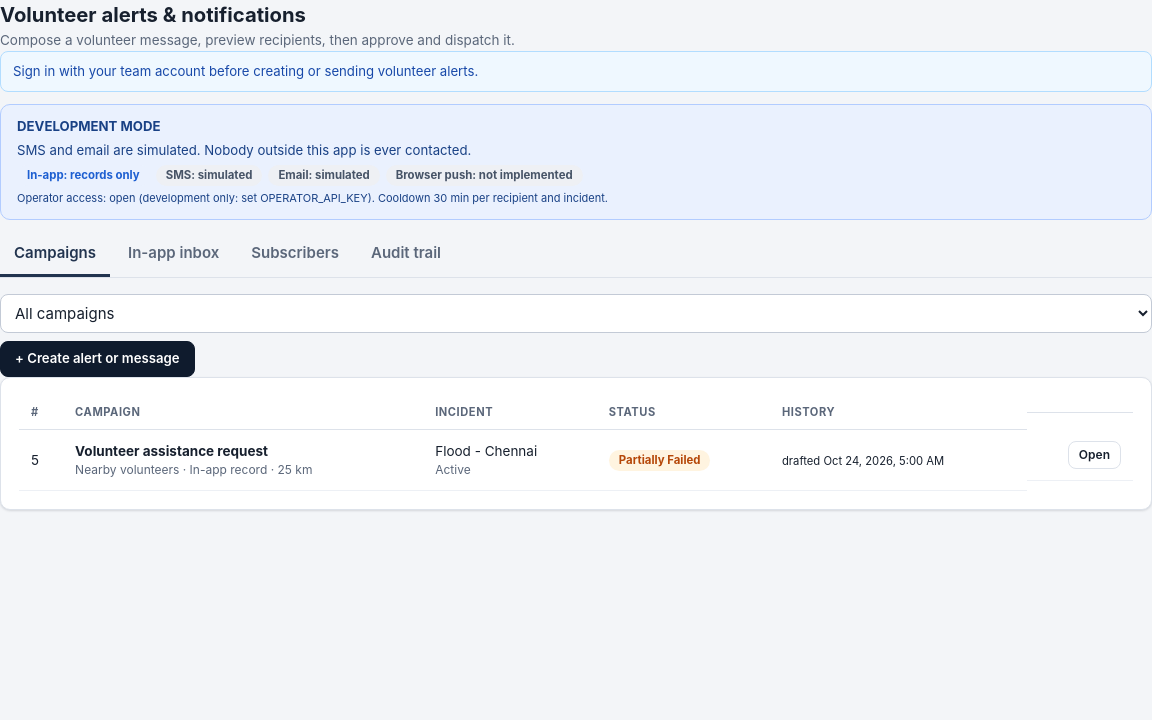
Test: Notifications console › failed deliveries are shown as failed with a retry control, never as delivered
Click the button "Open" at (1094, 455), box [1068,441,1121,469]
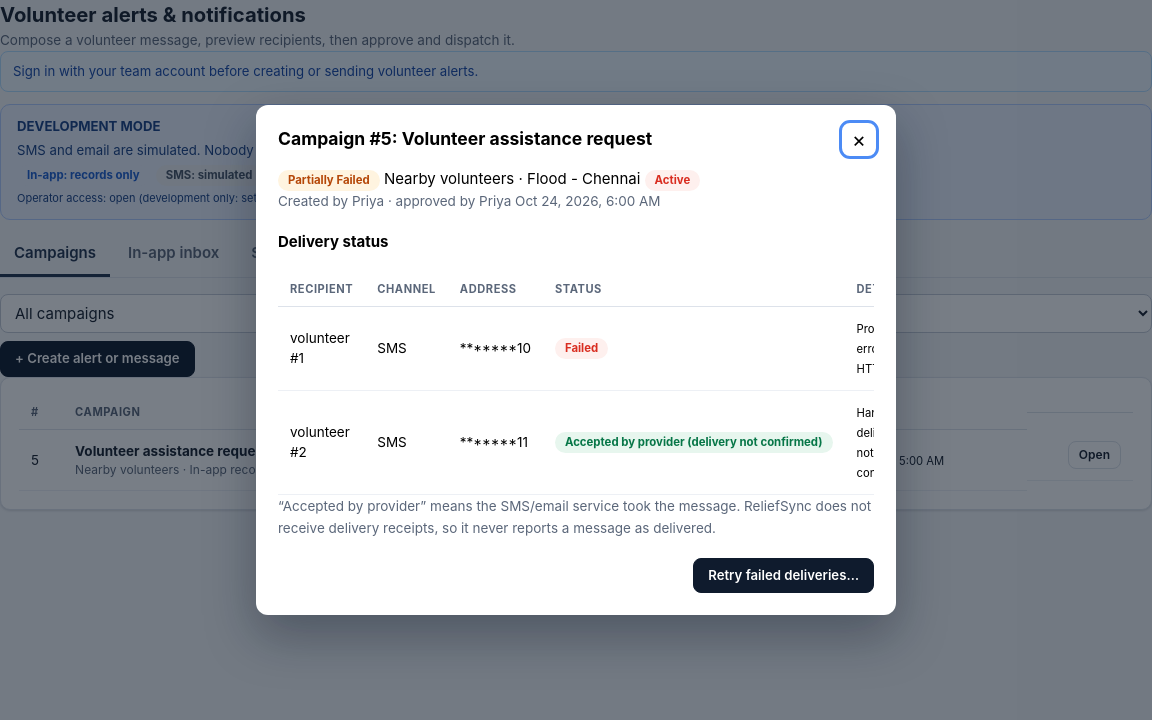
expect the text "Accepted by provider (delivery not confirmed)" is shown: met, box [555,432,832,453]
expect the button "Retry failed deliveries…" is shown: met, box [693,558,874,594]
